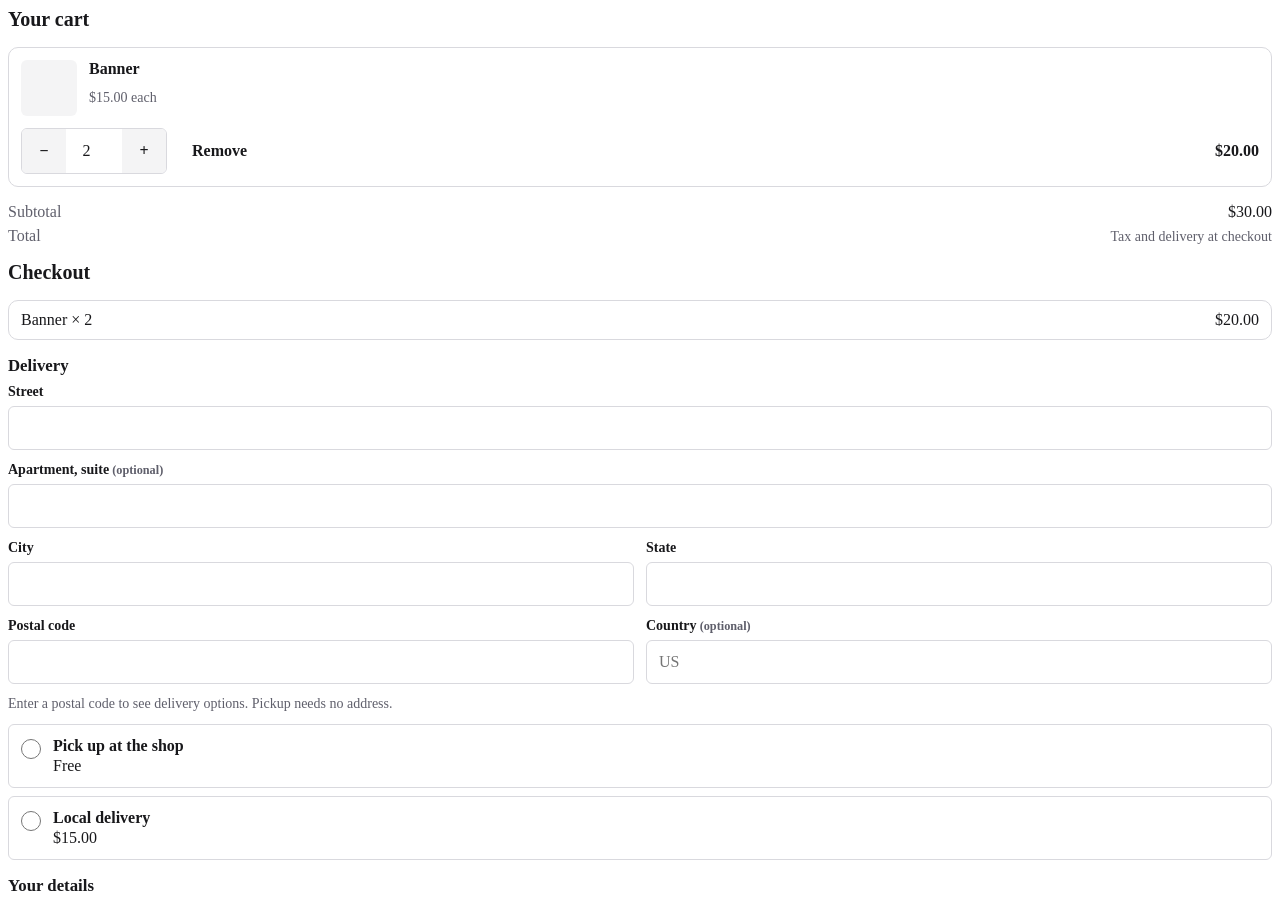
<Checkout> › a delivery waits for the address before quoting tax
Click the radio button labelled "Local delivery $15.00": (31, 821) [21, 811, 41, 831]
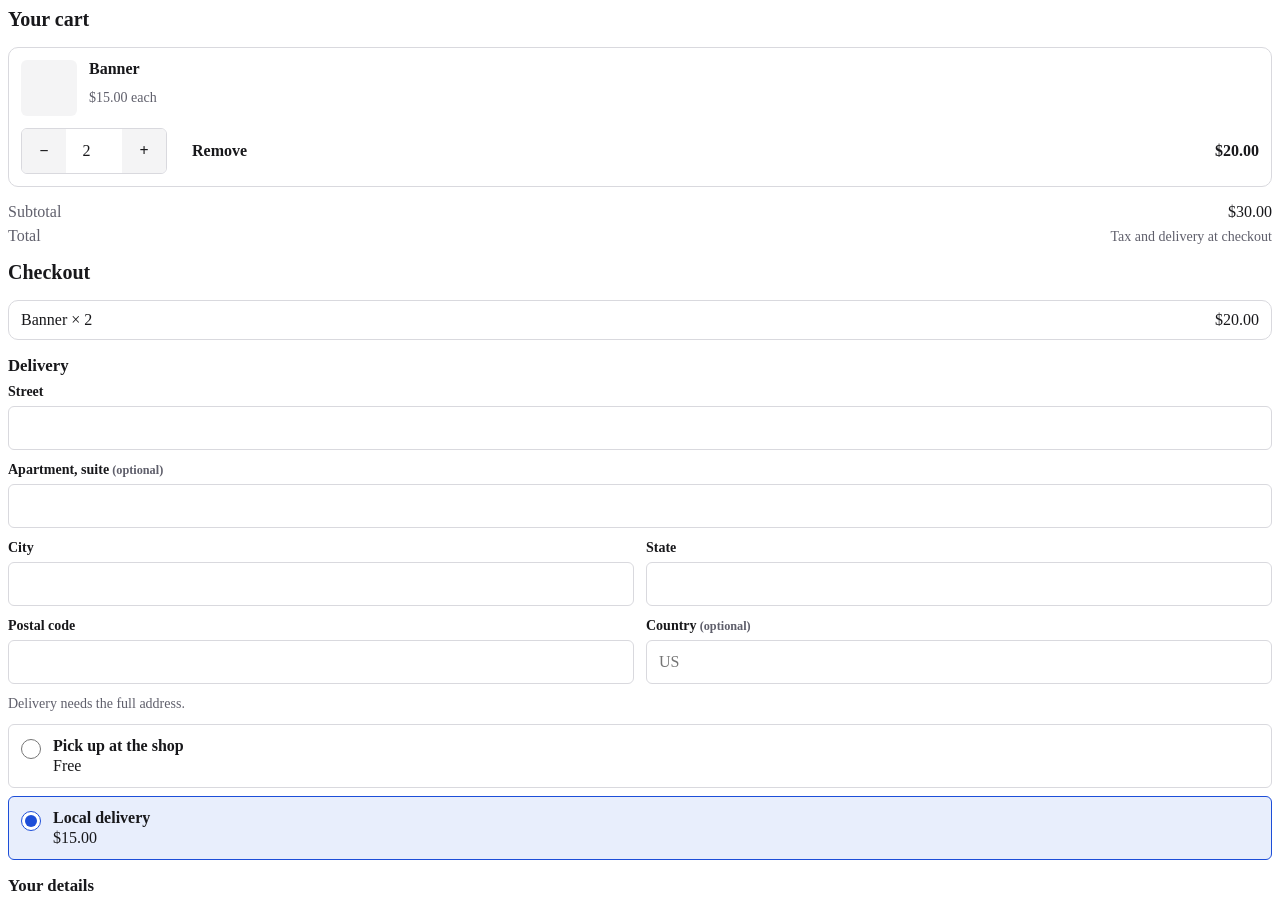
In the field labelled "Street": (640, 428) [8, 406, 1272, 450], type "1 Main St"
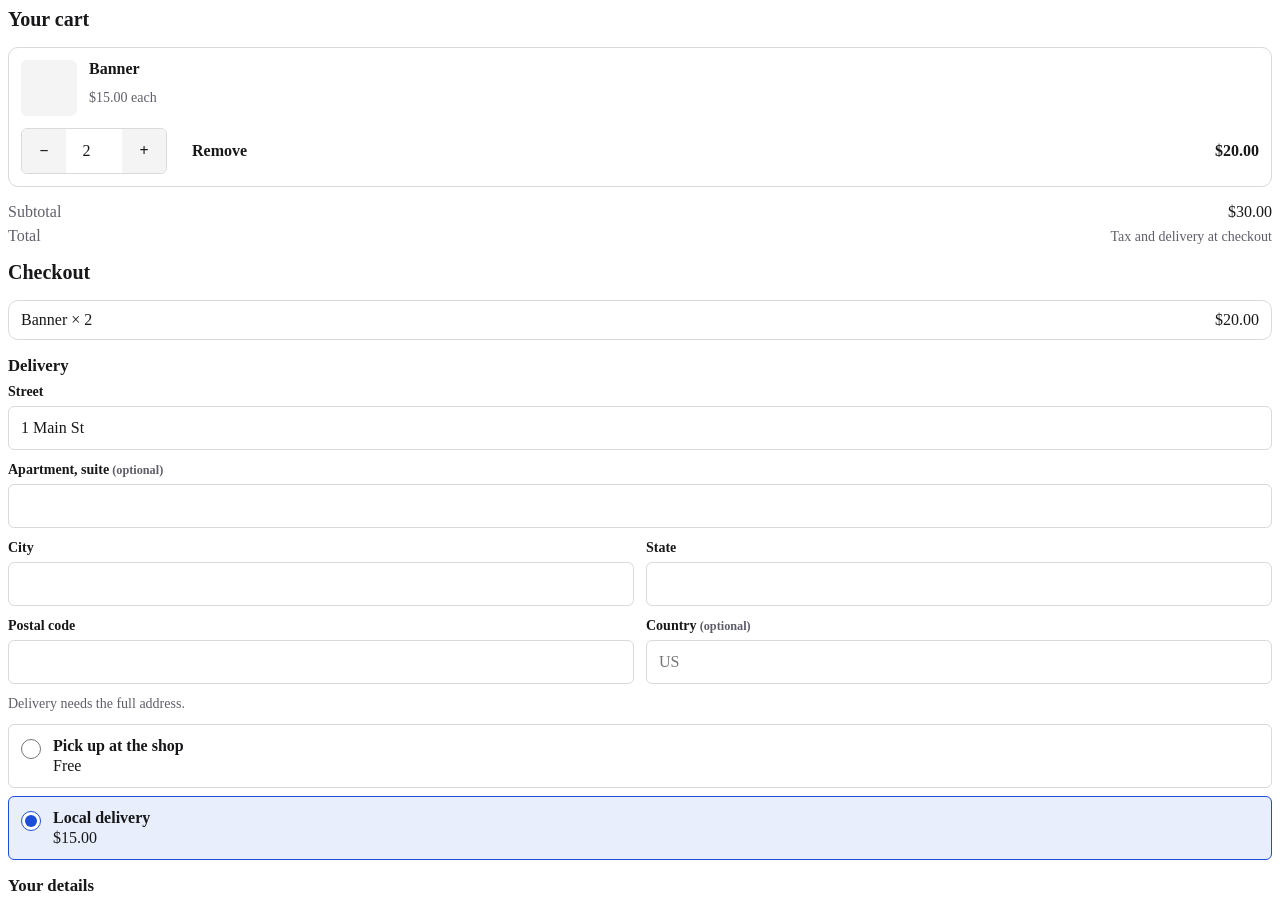
In the field labelled "City": (321, 584) [8, 562, 634, 606], type "Denver"
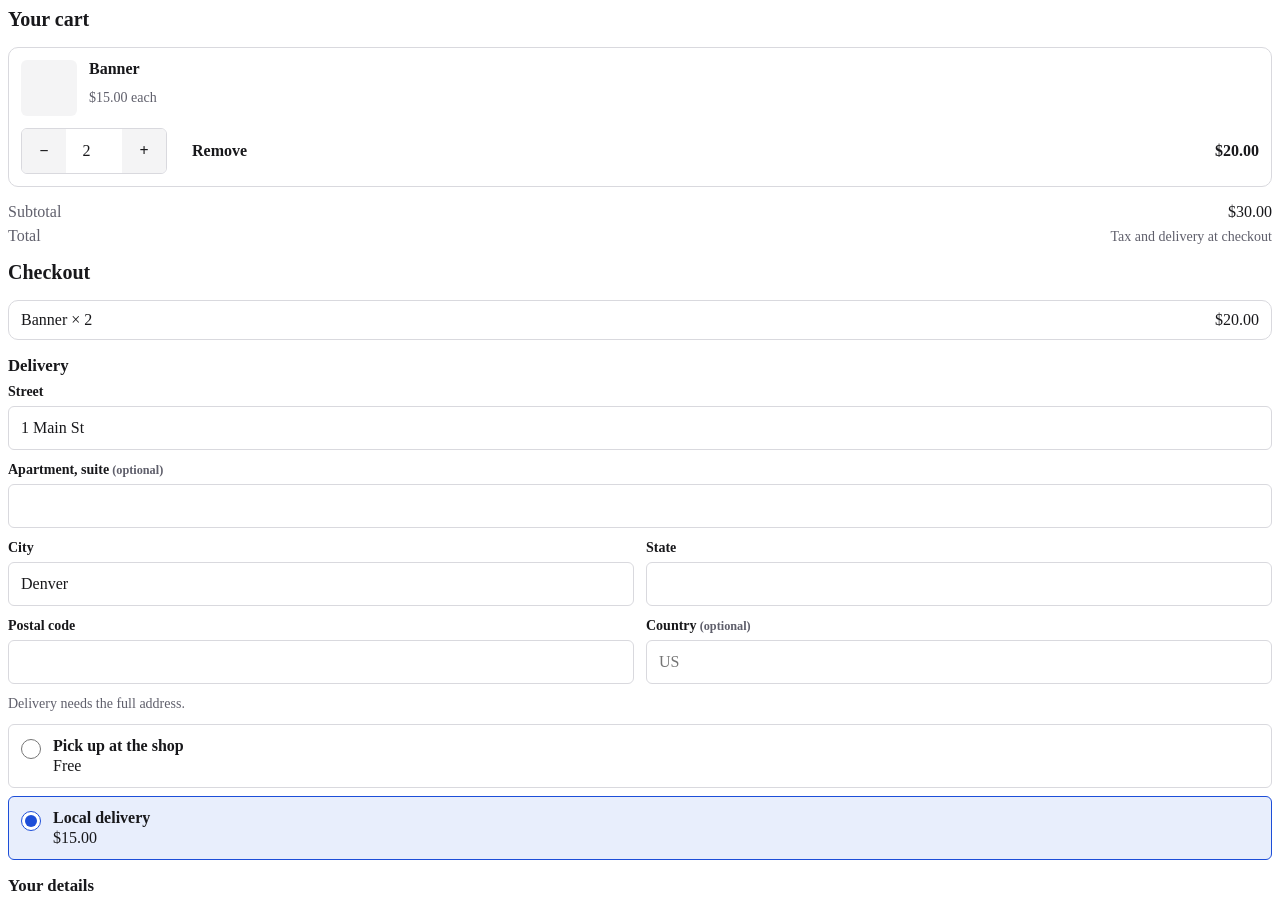
In the field labelled "Postal code": (321, 662) [8, 640, 634, 684], type "80202"
(page scrolled)
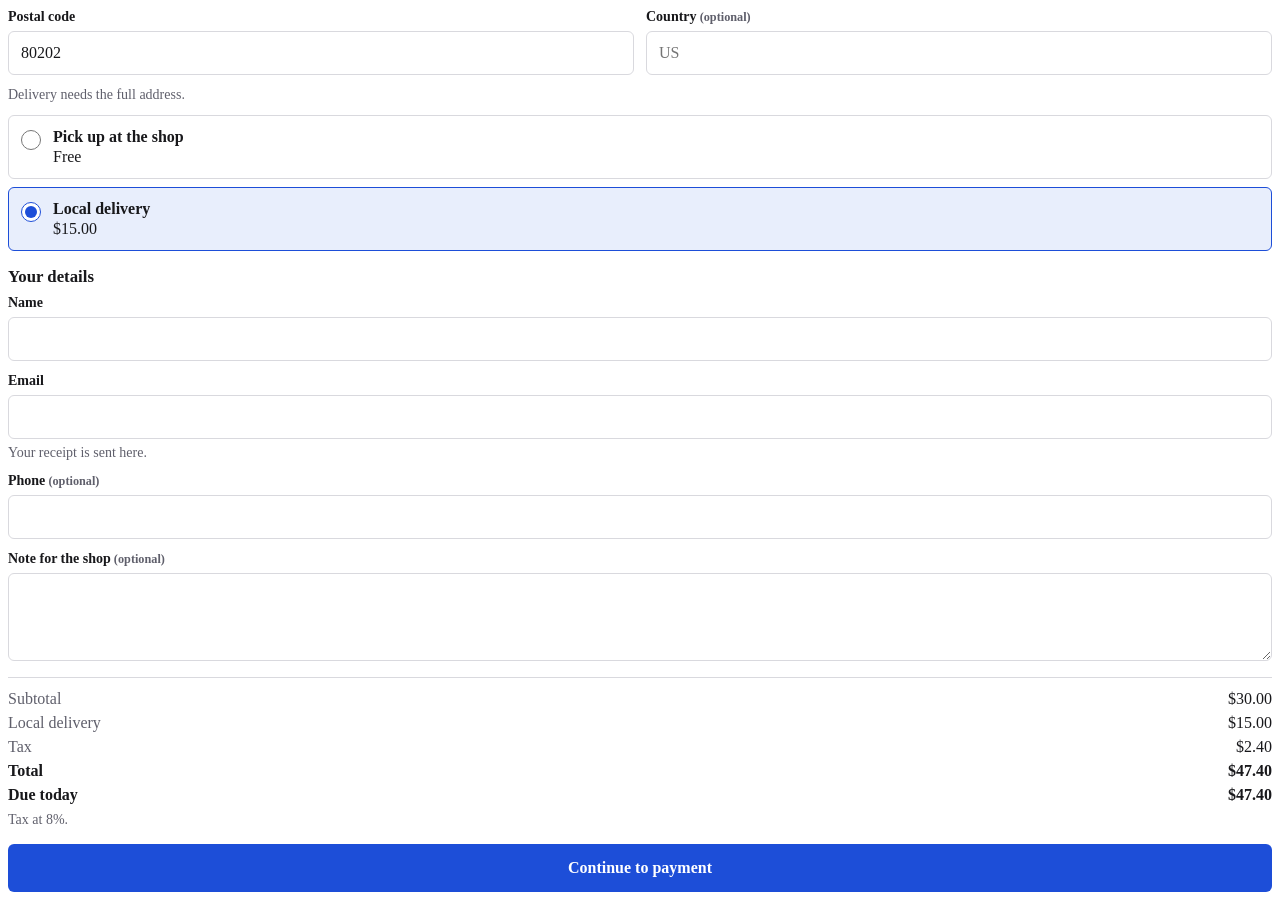
Expected: the element named "Order total" shows "$47.40", [1228, 762, 1272, 779]
